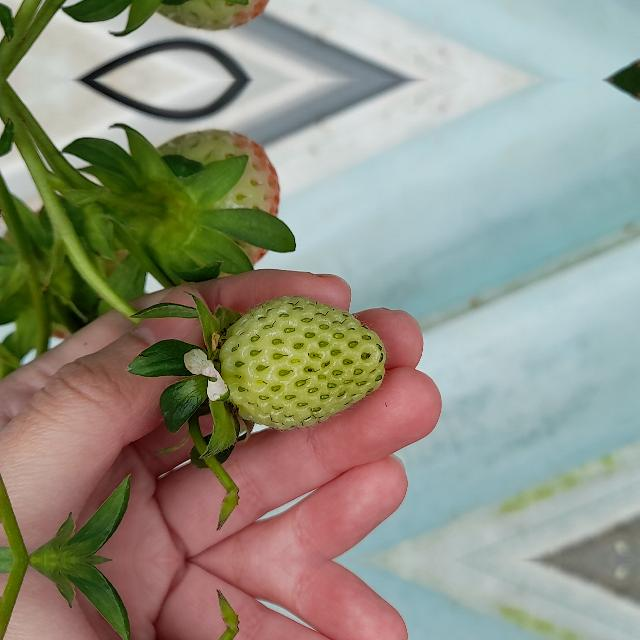Health_25: (218, 294, 386, 430)
